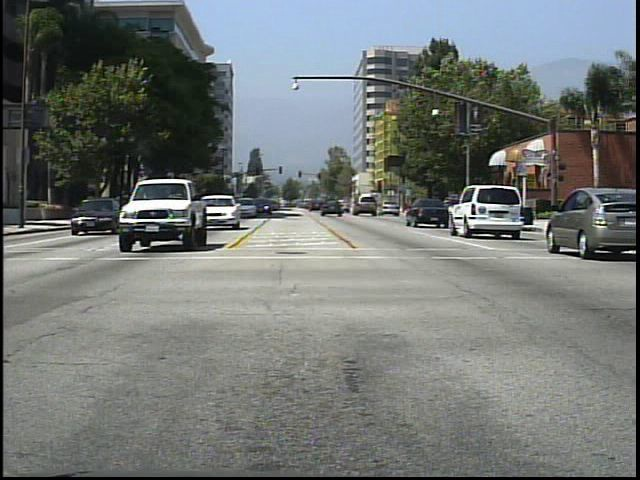person: (499, 190, 518, 229), (458, 192, 476, 227)
